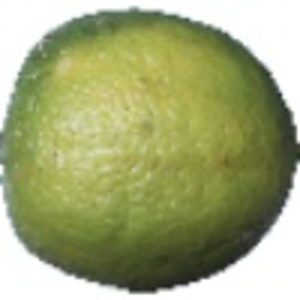limão: (1, 7, 300, 292)
